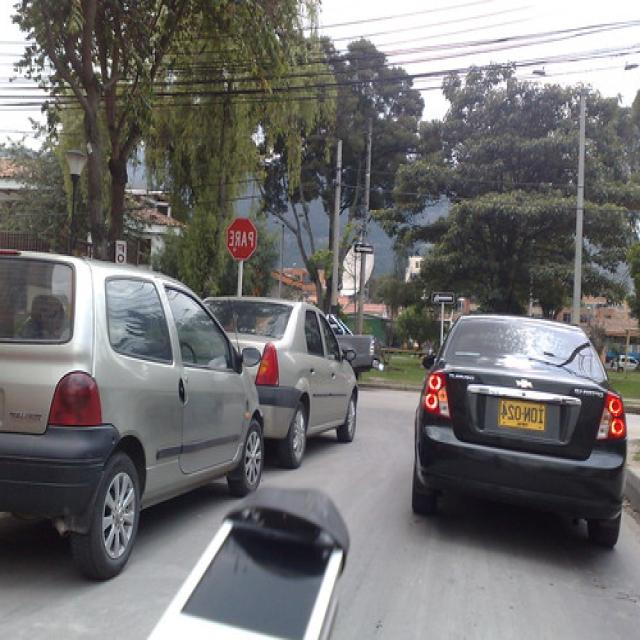placas: (498, 400, 543, 423)
